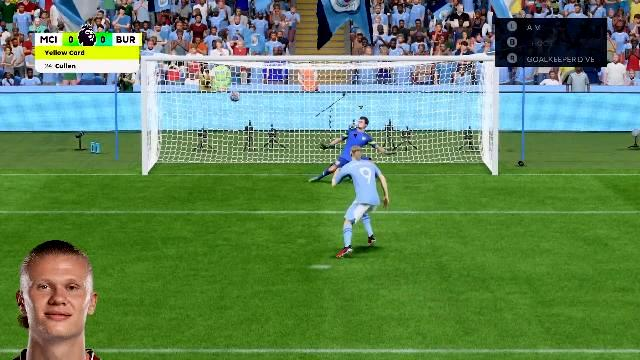bottom-left: (150, 125, 270, 177)
bottom-right: (376, 124, 488, 173)
center-down: (272, 124, 374, 176)
center-up: (272, 65, 374, 123)
football: (228, 90, 242, 102)
goalkeeper: (302, 109, 358, 177)
player: (316, 145, 388, 273)
top-left: (149, 65, 269, 123)
top-right: (375, 66, 489, 124)
